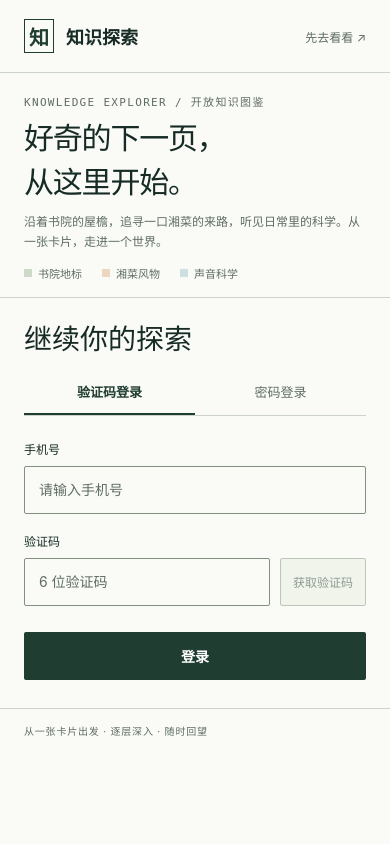
Test: LoginView › 默认渲染验证码登录 tab,可切换到密码登录
Expected: the element showing "验证码登录 密码登录" is shown, [24, 371, 366, 416]
Expected: the field named "code" is shown, [24, 558, 270, 606]
Click the tab "密码登录": (280, 393) [195, 371, 366, 415]
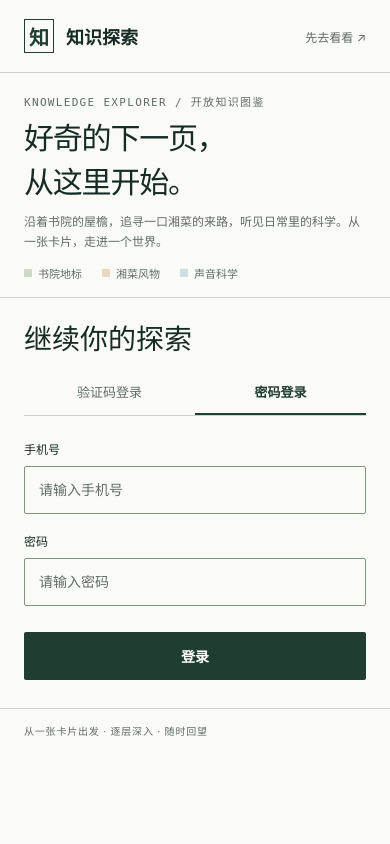
Expected: the password field named "password" is shown, [24, 558, 366, 606]
# 切回验证码 tab
Click the tab "验证码登录": (110, 393) [24, 371, 195, 415]
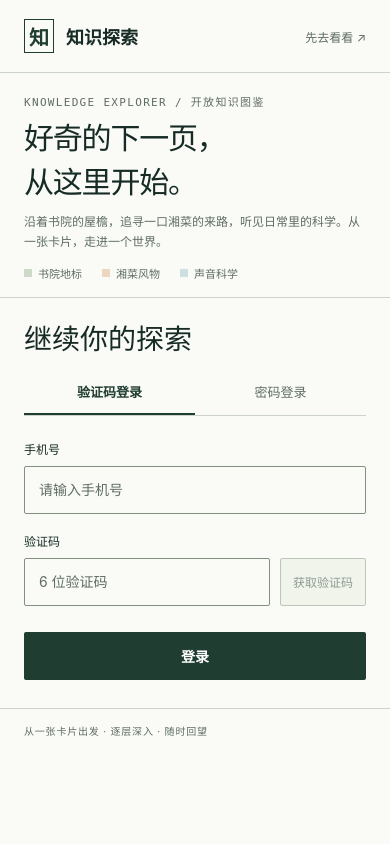
Expected: the field named "code" is shown, [24, 558, 270, 606]
